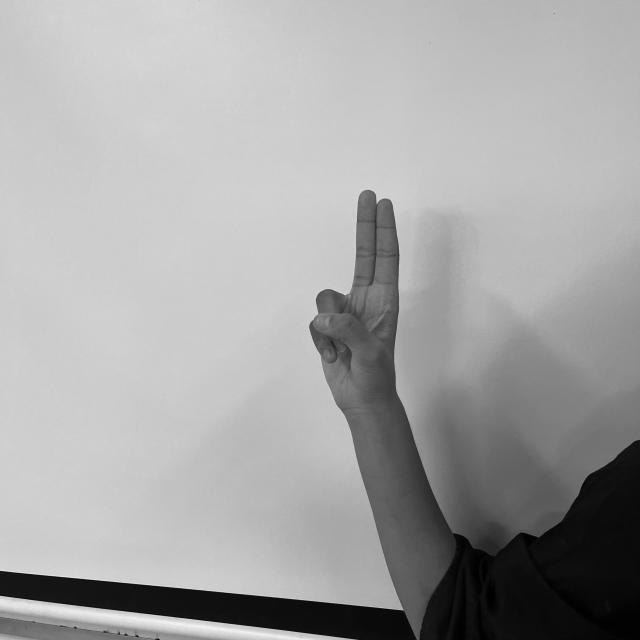Letra U: (306, 185, 406, 409)
